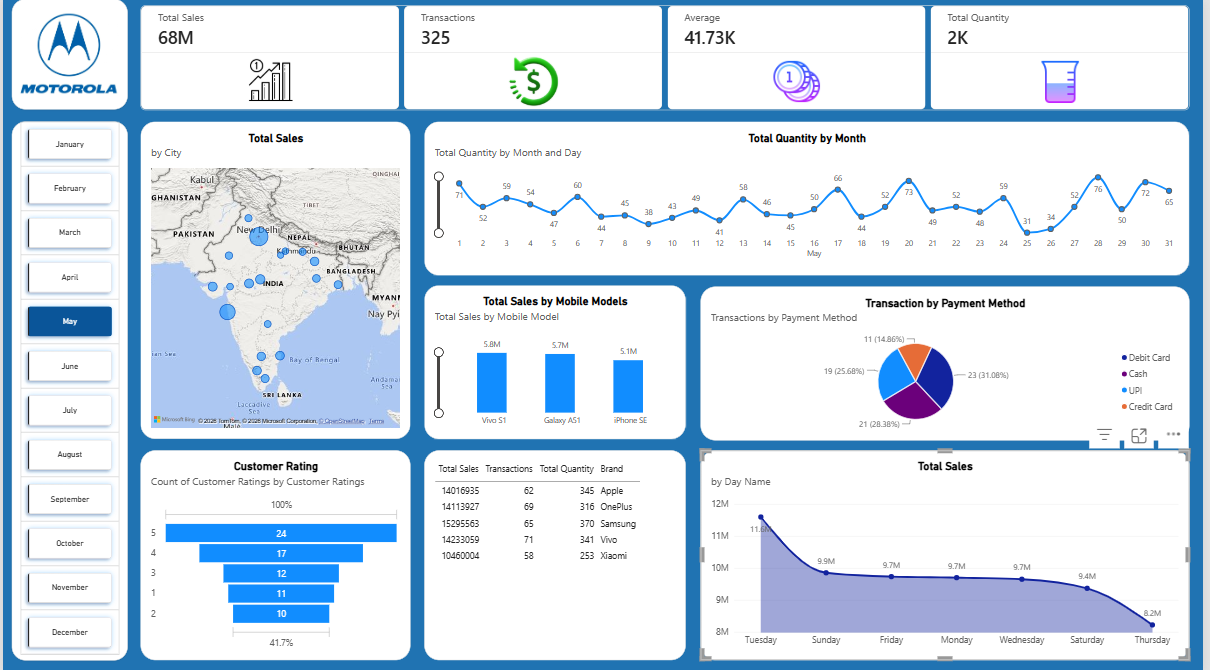

The dashboard page shown, as its layout file describes it:
{"tool":"powerbi","page":{"name":"Page 1","canvas":[1920,1080],"ordinal":0},"visuals":[{"type":"shape","box":[14.4,0,185.2,177],"z":0},{"type":"image","box":[26.8,10.3,158.5,154.4],"z":1000},{"type":"shape","box":[14,196,185.2,862.4],"z":1001},{"type":"advancedSlicerVisual","fields":{"Values":["Sales_Data.Date.Variation.Date Hierarchy.Month"]},"box":[28,196,158.5,862.4],"z":1002},{"type":"cardVisual","fields":{"Data":["Sales_Data.Total Sales","Sales_Data.Transactions","Sales_Data.Average","Sales_Data.Total Quantity"]},"box":[220,10,1678,168],"z":1003},{"type":"map","fields":{"Category":["Sales_Data.City"],"Size":["Sales_Data.Total Sales"]},"box":[220,196,432,508],"z":1004},{"type":"lineChart","title":"Total Quantity by Month","fields":{"Category":["Sales_Data.Date.Variation.Date Hierarchy.Month","Sales_Data.Date.Variation.Date Hierarchy.Day"],"Y":["Sales_Data.Total Quantity"]},"box":[674,196,1224,246],"z":1005},{"type":"clusteredColumnChart","title":"Total Sales by Mobile Models","fields":{"Category":["Sales_Data.Mobile Model"],"Y":["Sales_Data.Total Sales"]},"box":[674,458,418,246],"z":1006},{"type":"pieChart","title":"Transaction by Payment Method","fields":{"Category":["Sales_Data.Payment Method"],"Y":["Sales_Data.Transactions"]},"box":[1116,460,782,246],"z":1007},{"type":"funnel","title":"Customer Rating","fields":{"Category":["Sales_Data.Customer Ratings"],"Y":["CountNonNull(Sales_Data.Customer Ratings)"]},"box":[220,722,432,336],"z":1008},{"type":"areaChart","fields":{"Category":["Sales_Data.Day Name"],"Y":["Sales_Data.Total Sales"]},"box":[1116,722,782,336],"z":1009},{"type":"tableEx","fields":{"Values":["Sales_Data.Total Sales","Sales_Data.Transactions","Sales_Data.Total Quantity","Sales_Data.Brand"]},"box":[674,722,418,336],"z":1010}]}

Visuals, with their boxes in screenshot pixels (x1, y1, x2, y2), scaled from the page's 1920x1080 canvas onto the 1210x670 screenshot:
shape: {"left": 9, "top": 0, "right": 126, "bottom": 110}
image: {"left": 17, "top": 6, "right": 117, "bottom": 102}
shape: {"left": 9, "top": 122, "right": 126, "bottom": 657}
advancedSlicerVisual - Sales_Data.Date.Variation.Date Hierarchy.Month: {"left": 18, "top": 122, "right": 118, "bottom": 657}
cardVisual - Sales_Data.Total Sales x Sales_Data.Transactions: {"left": 139, "top": 6, "right": 1196, "bottom": 110}
map - Sales_Data.City x Sales_Data.Total Sales: {"left": 139, "top": 122, "right": 411, "bottom": 437}
"Total Quantity by Month" lineChart: {"left": 425, "top": 122, "right": 1196, "bottom": 274}
"Total Sales by Mobile Models" clusteredColumnChart: {"left": 425, "top": 284, "right": 688, "bottom": 437}
"Transaction by Payment Method" pieChart: {"left": 703, "top": 285, "right": 1196, "bottom": 438}
"Customer Rating" funnel: {"left": 139, "top": 448, "right": 411, "bottom": 656}
areaChart - Sales_Data.Day Name x Sales_Data.Total Sales: {"left": 703, "top": 448, "right": 1196, "bottom": 656}
tableEx - Sales_Data.Total Sales x Sales_Data.Transactions: {"left": 425, "top": 448, "right": 688, "bottom": 656}
